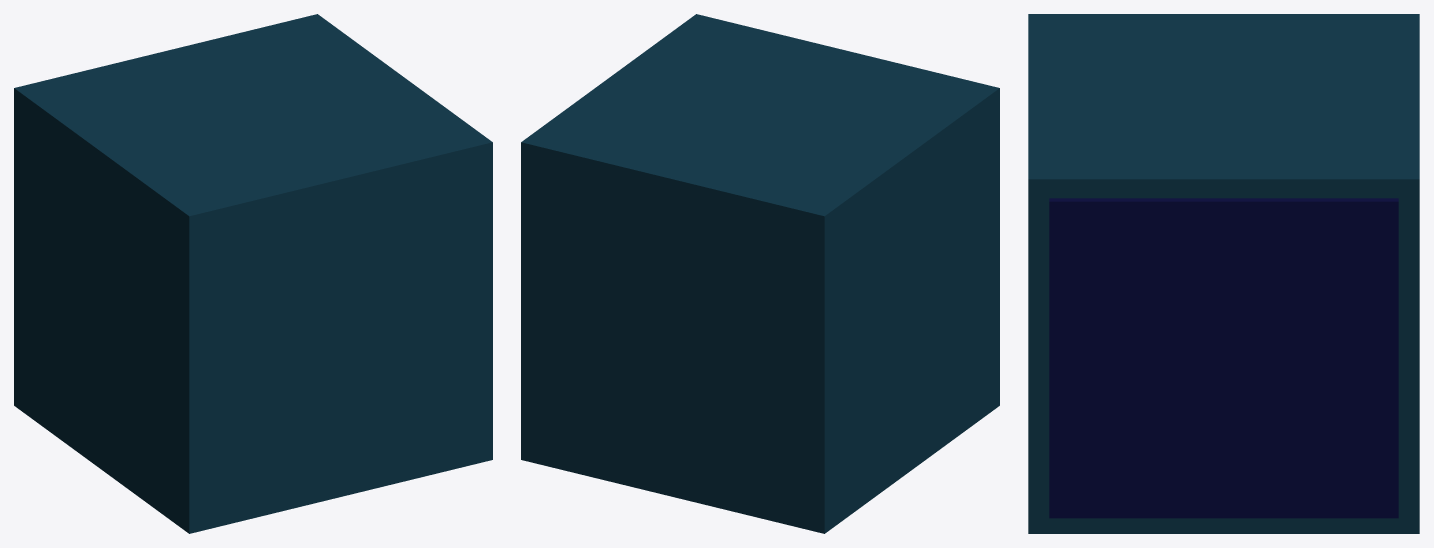
Rendered from portal.fbx.
3 renders of one model, left to right at view 1: azimuth 30°, elevation 25°; view 2: azimuth 150°, elevation 25°; view 3: azimuth 270°, elevation 25°, orthographic. The views are drawn at different scales.
Visible parts, largest first — view 1: portal; view 2: portal; view 3: cover, portal.
Part boxes in pixels (x1=…): portal: x1=14, y1=14, x2=492, y2=533; portal: x1=521, y1=14, x2=999, y2=533; cover: x1=1049, y1=198, x2=1398, y2=518; portal: x1=1028, y1=14, x2=1419, y2=533.
Bounding box in the file's own units: 204 × 200 × 200.
